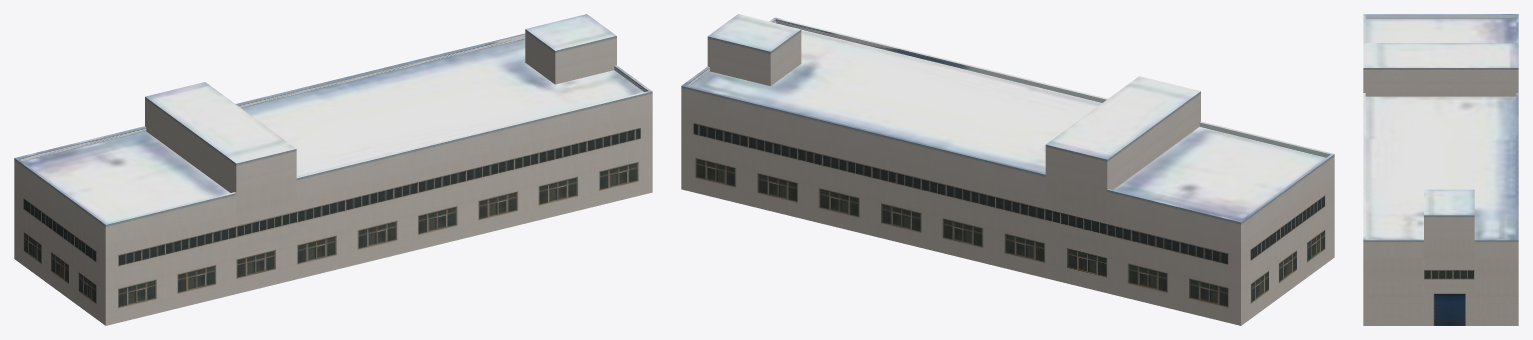
File: side building32.FBX
The picture shows the model from 3 angles, left to right: view 1: azimuth 30°, elevation 25°; view 2: azimuth 150°, elevation 25°; view 3: azimuth 270°, elevation 25°; orthographic projection. The views are drawn at different scales.
Visible parts, largest first — view 1: Object22698; view 2: Object22698; view 3: Object22698.
Part boxes in pixels (x1,y1,x2,y2): Object22698: (14, 14, 652, 325); Object22698: (681, 14, 1334, 325); Object22698: (1363, 14, 1518, 325).
Bounding box in the file's own units: 67.96 × 19.68 × 15.5.
